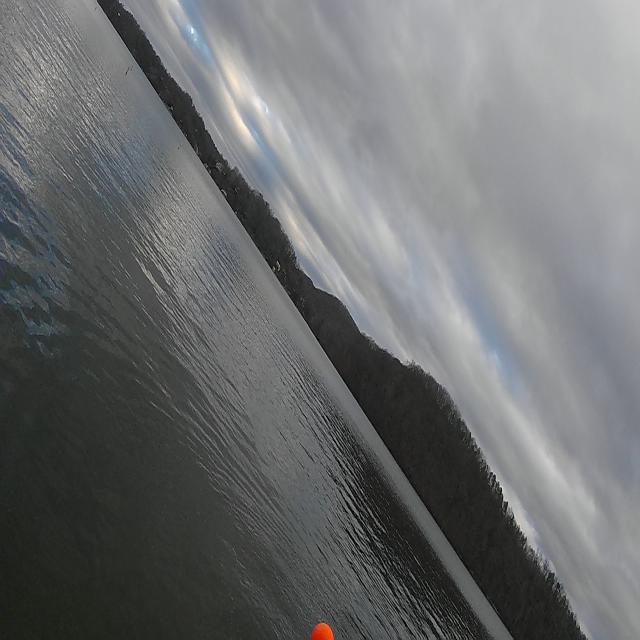Buoy: (309, 621, 337, 640)
